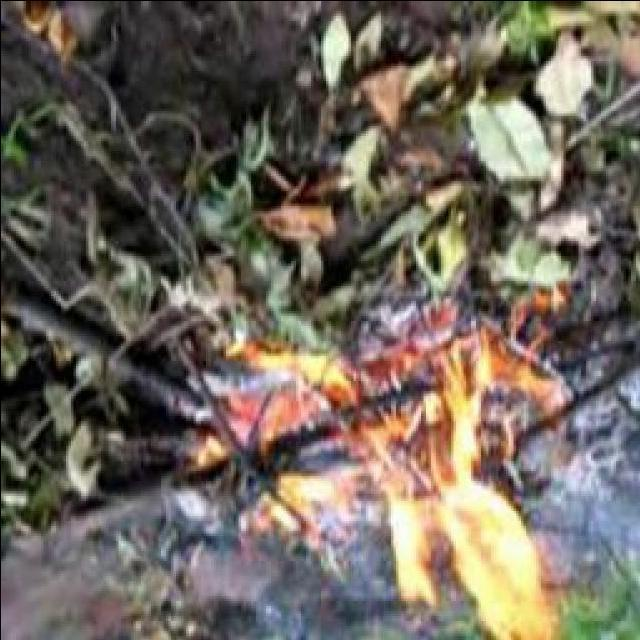Fire: (260, 334, 577, 640)
